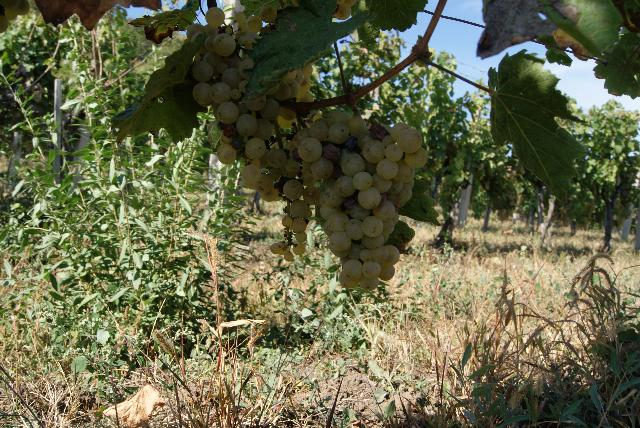grapes: (296, 109, 428, 290), (261, 148, 321, 260)
